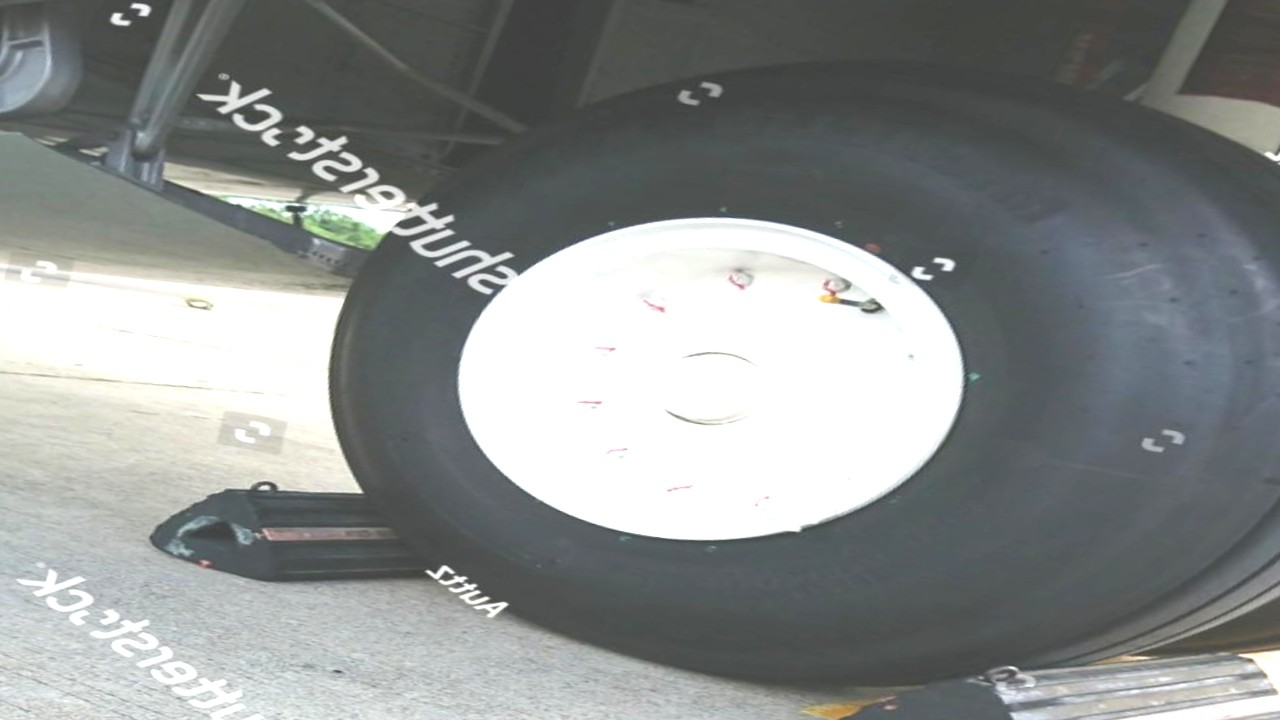chock: (804, 594, 1280, 720), (134, 449, 490, 615)
wheel: (264, 13, 1280, 720)
